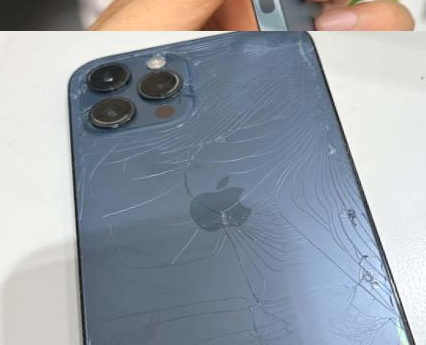physical_damage: (93, 162, 273, 267), (270, 134, 360, 278), (74, 109, 216, 192), (196, 59, 325, 145), (116, 230, 279, 297), (290, 258, 410, 345), (180, 269, 304, 345), (168, 31, 313, 87), (51, 60, 111, 137), (93, 305, 179, 345), (115, 40, 177, 76)
